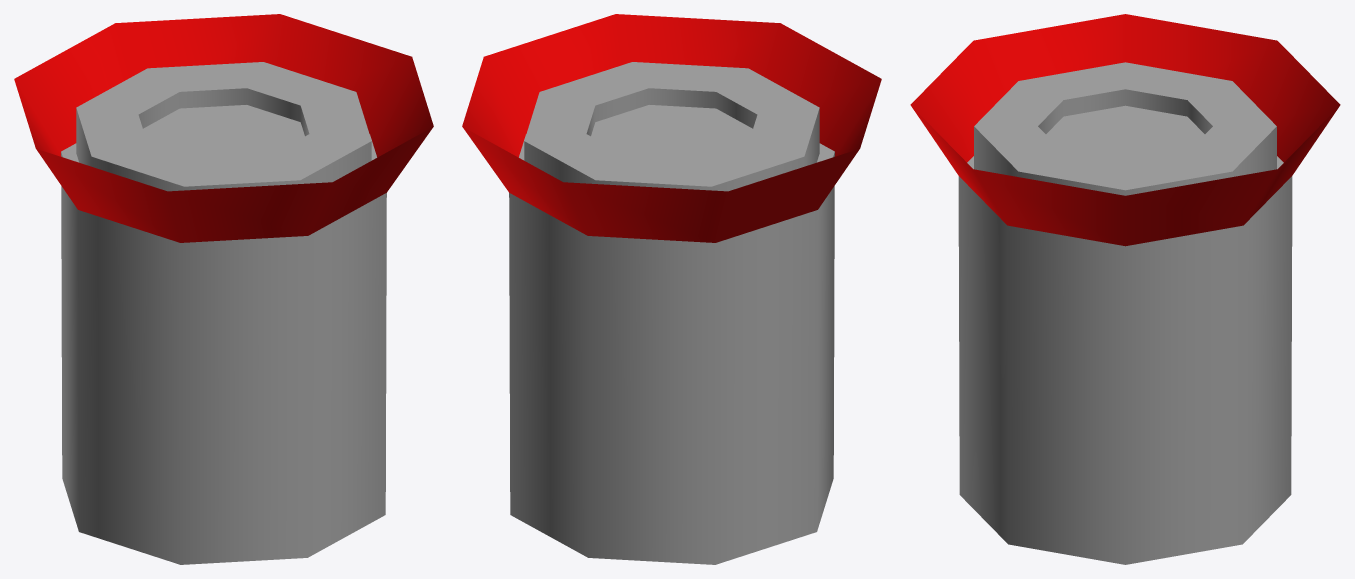
The model's file is basurero.fbx.
The picture shows the model from 3 angles, left to right: view 1: azimuth 30°, elevation 25°; view 2: azimuth 150°, elevation 25°; view 3: azimuth 270°, elevation 25°; orthographic projection.
Visible parts, largest first — view 1: polySurface14; view 2: polySurface14; view 3: polySurface14.
Part boxes in pixels (x1,y1,x2,y2): polySurface14: (14,14,433,564); polySurface14: (462,14,881,564); polySurface14: (910,14,1340,564).
Bounding box in the file's own units: 284 × 284 × 284.
